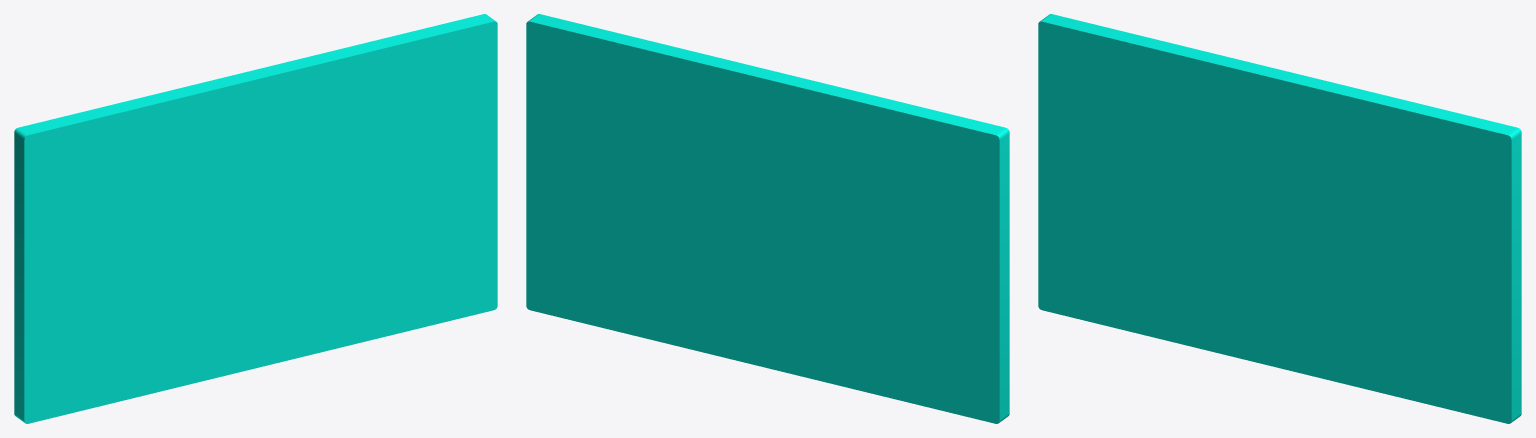
Rendered from umgebung_korkboard_low.FBX.
The picture shows the model from 3 angles, left to right: view 1: azimuth 30°, elevation 25°; view 2: azimuth 150°, elevation 25°; view 3: azimuth 330°, elevation 25°; orthographic projection.
Parts seen in each view (by area): view 1: o_korkboard_low; view 2: o_korkboard_low; view 3: o_korkboard_low.
Part boxes in pixels (bbox=[...]): o_korkboard_low: bbox=[14, 14, 497, 423]; o_korkboard_low: bbox=[526, 14, 1009, 423]; o_korkboard_low: bbox=[1038, 14, 1521, 423].
Size of the model in its own units: 231 by 8.67 by 135.
